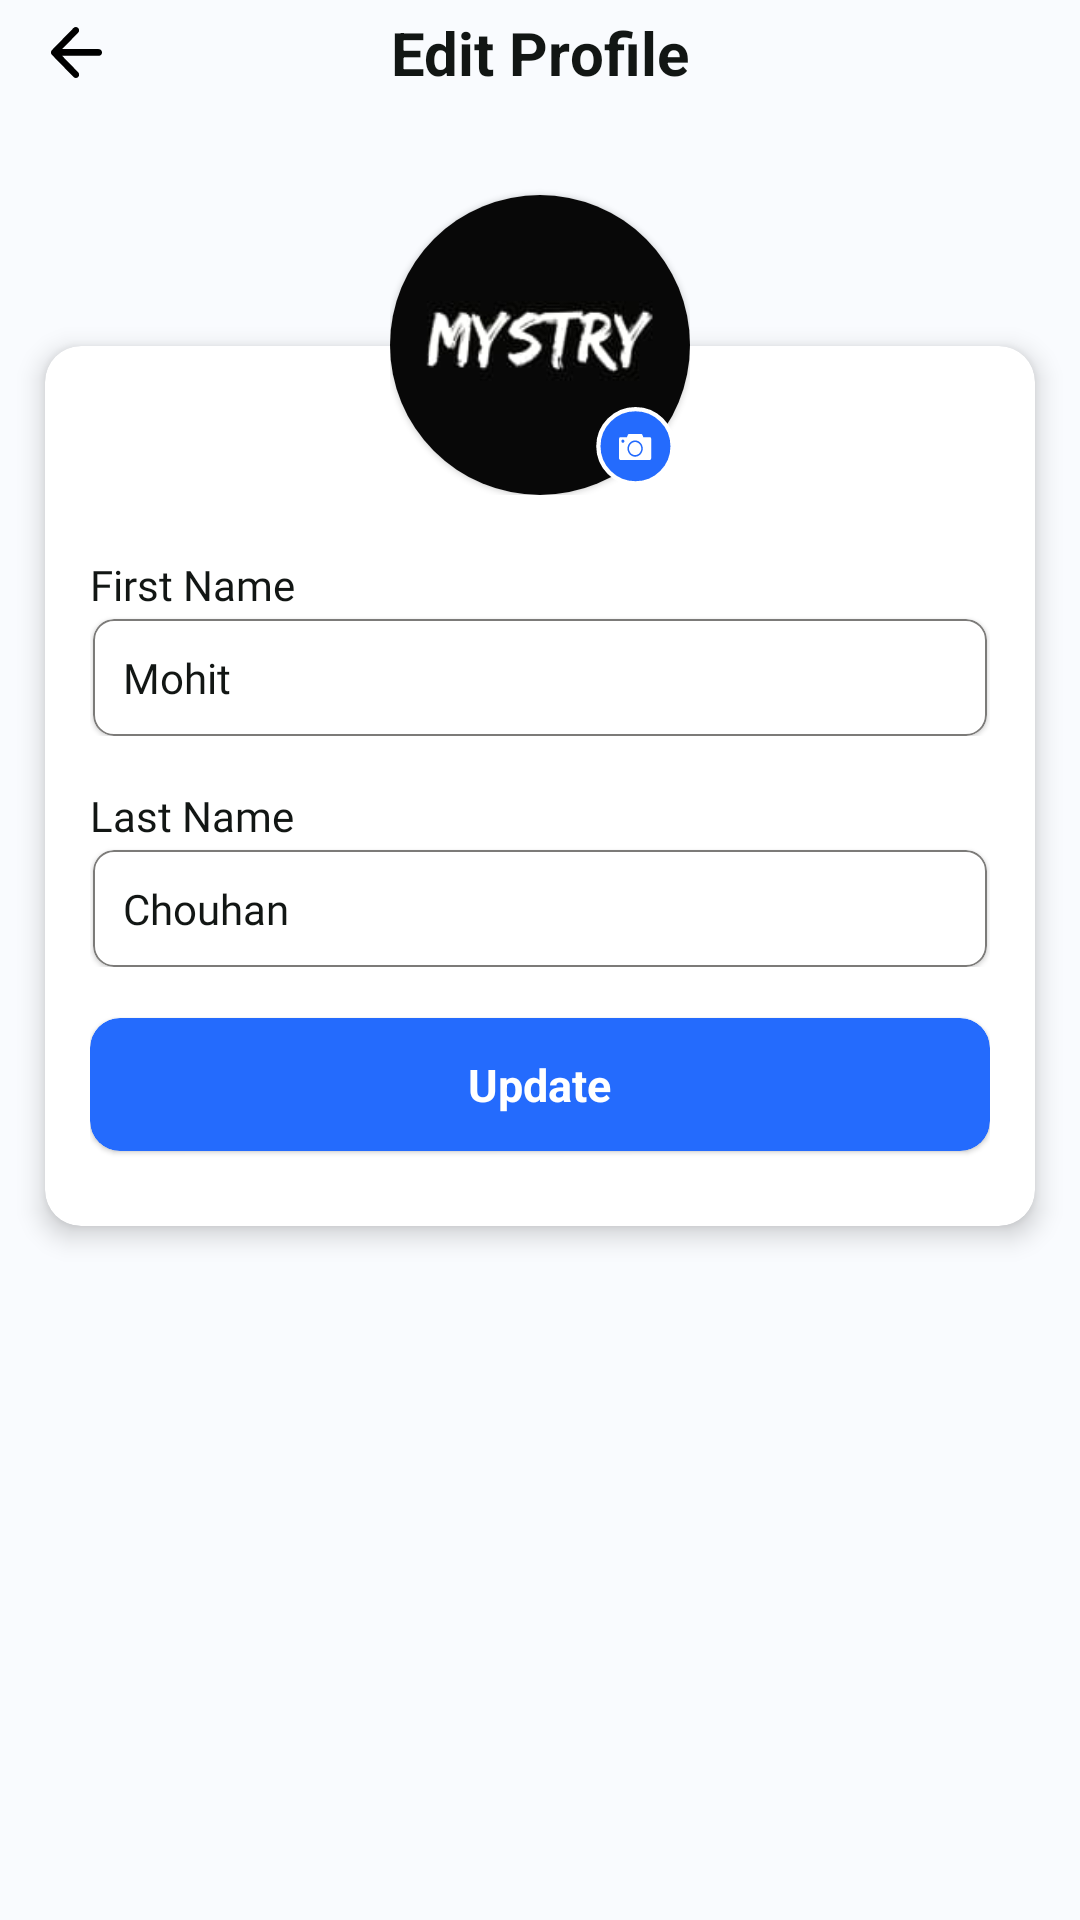

Where icons sit on this 1080px x 1920px app screen, as (x1, y1, x2, y2):
back arrow: (51, 27, 102, 78)
